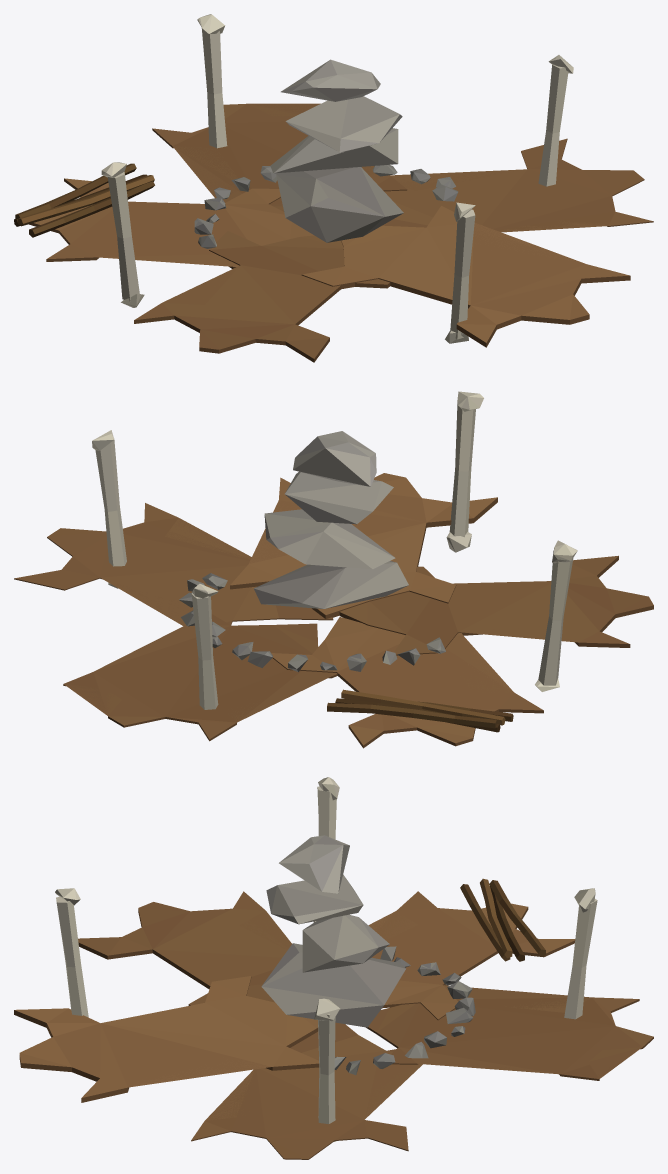
Rendered from stacked_stones_2_meta.glb.
3 views of the same model, one above another, from view 1: azimuth 30°, elevation 25°; view 2: azimuth 150°, elevation 25°; view 3: azimuth 270°, elevation 25° (orthographic). The views are drawn at different scales.
Parts seen in each view (by area): view 1: stacked_stones_2_meta; view 2: stacked_stones_2_meta; view 3: stacked_stones_2_meta.
Part boxes in pixels (<box>): stacked_stones_2_meta: <box>14,14,653,362</box>; stacked_stones_2_meta: <box>14,391,653,748</box>; stacked_stones_2_meta: <box>14,777,653,1159</box>.
Bounding box in the file's own units: 6.94 × 2.39 × 7.07.
